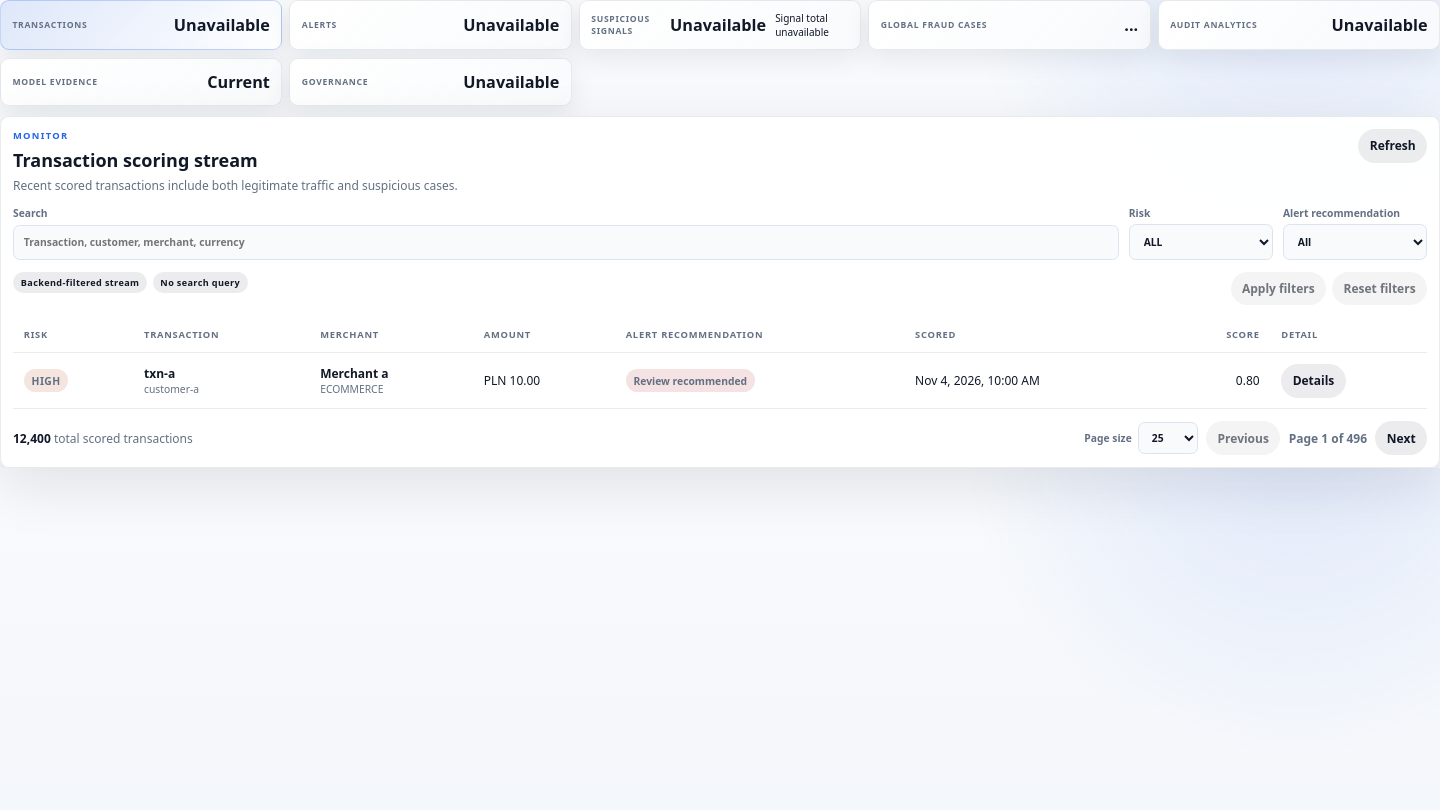
Test: transaction scoring read boundary with real provider, API client, hooks and views › keeps a failed global count unavailable when the filtered stream resolves filtered-first
Expected: the text "Merchant a" is shown, [320, 365, 389, 382]
Type "narrowed" into the field labelled "Search" at [566, 242], box [13, 225, 1119, 260]
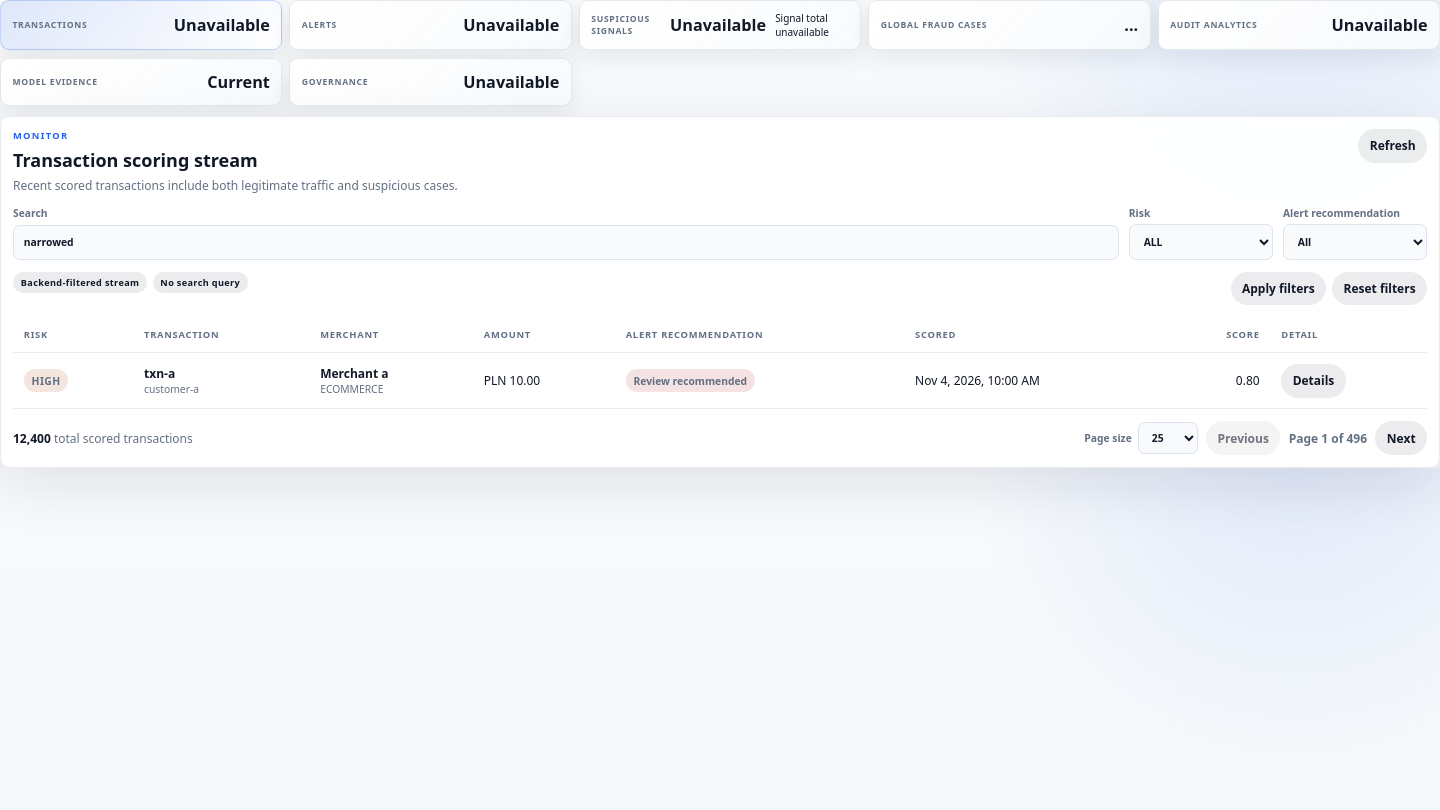
Click the button "Apply filters" at [1278, 288], box [1231, 272, 1326, 305]
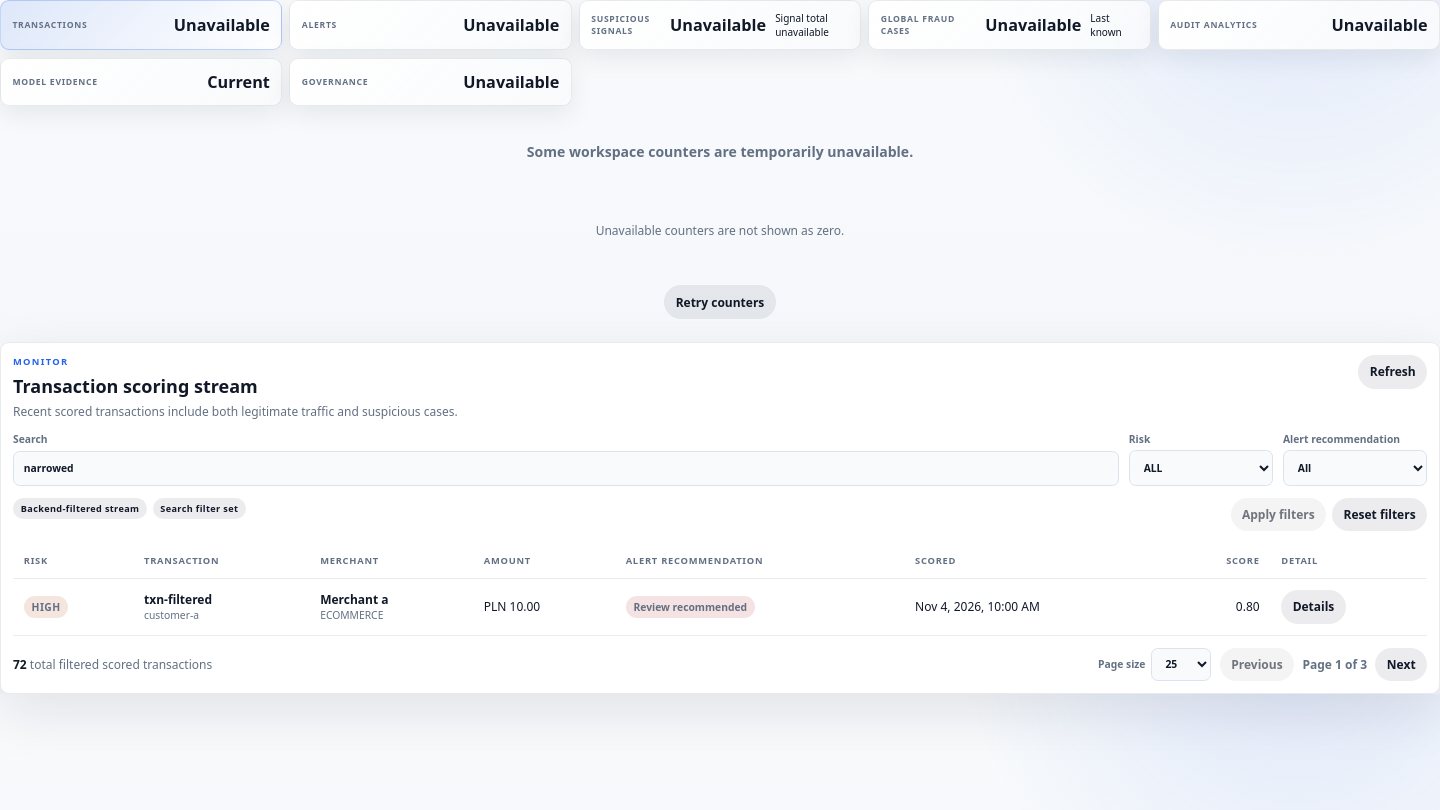
Expected: the link "Transactions Unavailable" is shown, [0, 0, 282, 50]
Expected: the text "Page 1 of 3" is shown, [1302, 656, 1367, 673]
Expected: the text "72" is shown, [13, 656, 27, 673]
